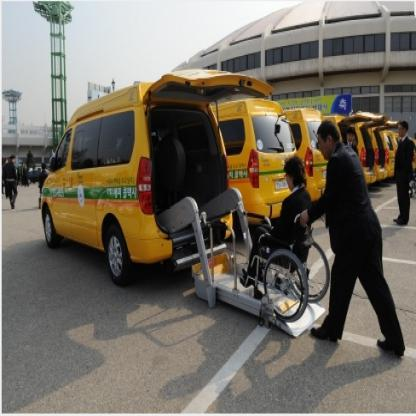wheelchair: (242, 152, 331, 314)
